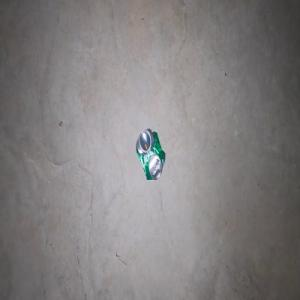SodaCan: (135, 127, 165, 180)
